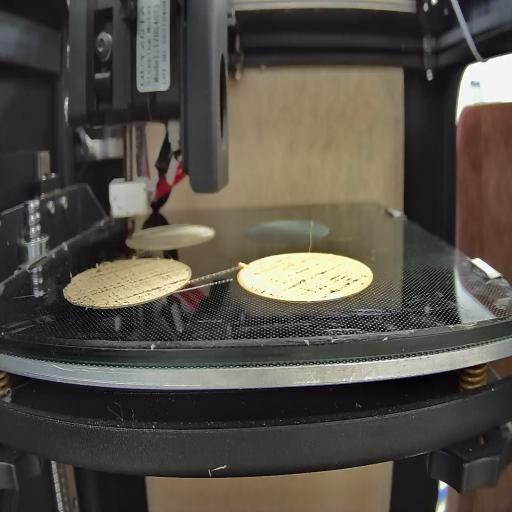under_extrusion: (75, 265, 187, 302), (252, 264, 368, 296)
